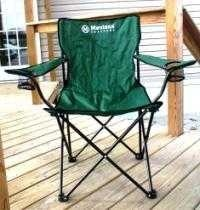obstacle: (6, 14, 195, 201)
